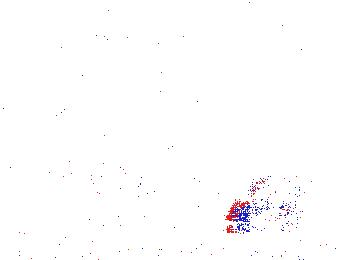flame jellyfish: (227, 172, 305, 223), (274, 172, 346, 227), (88, 154, 154, 200)
